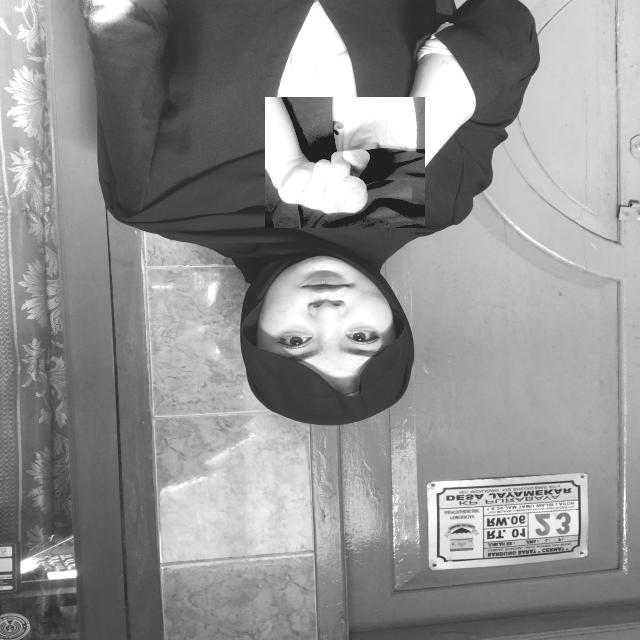kamu: (265, 97, 425, 228)
